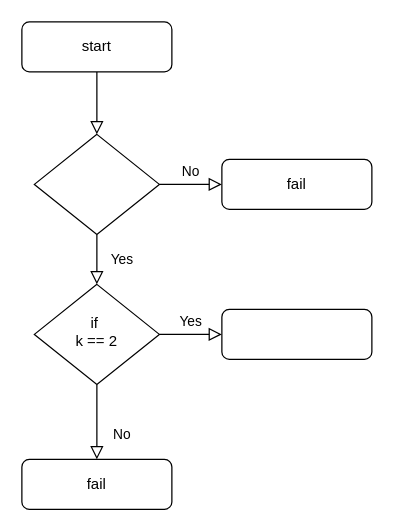
The diagram is 394 pixels wide and 531 high, and some of its shapes have lost their labels. Each missing label, with the box of its shape:
is input number interger: (33, 133, 159, 234)
return n: (221, 308, 372, 359)
